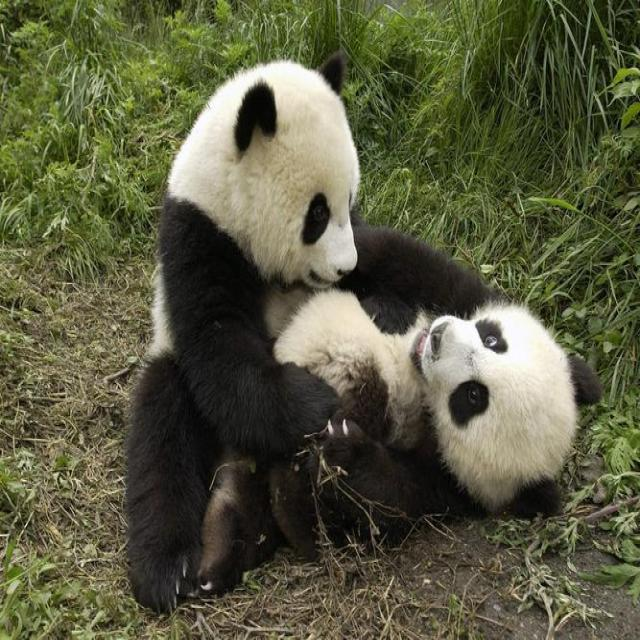panda: (118, 51, 603, 616)
